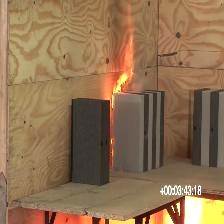fire: (106, 64, 142, 117)
